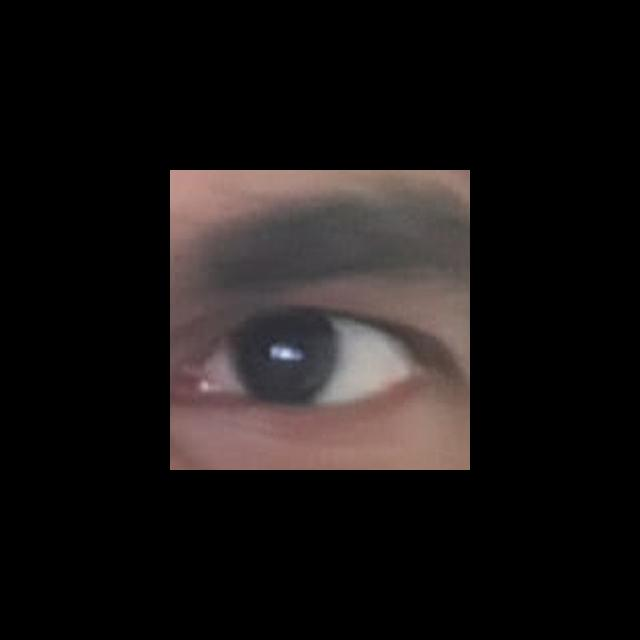eye: (203, 313, 418, 406)
iris: (232, 316, 338, 403)
